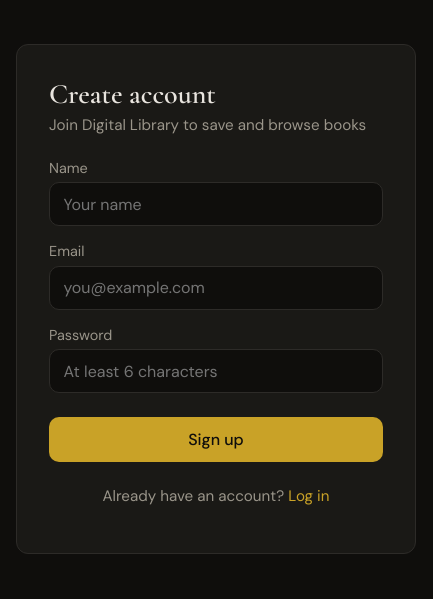
Scenario: Signup › shows error when API returns error
Type "Jane" into the field with placeholder "Your name". click: (216, 204)
box: [49,182,383,226]
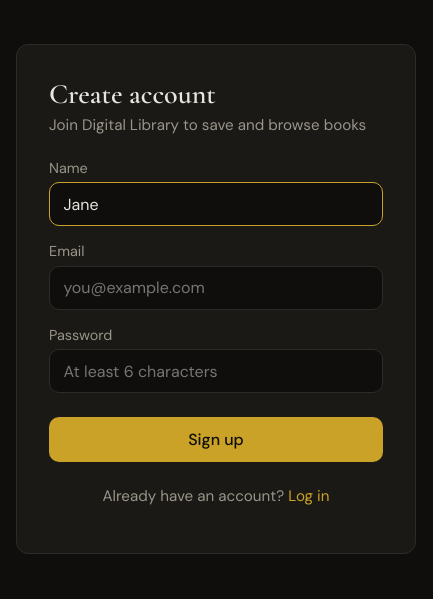
Type "j@b.com" into the field with placeholder "you@example.com". click: (216, 288)
box: [49,266,383,310]
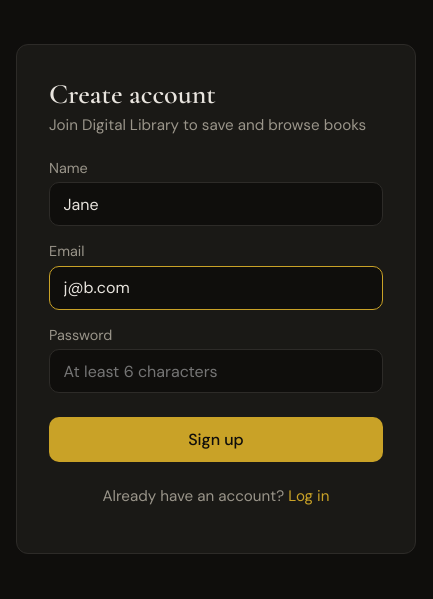
Type "password123" into the password field with placeholder "At least 6 characters". click: (216, 371)
box: [49,349,383,393]
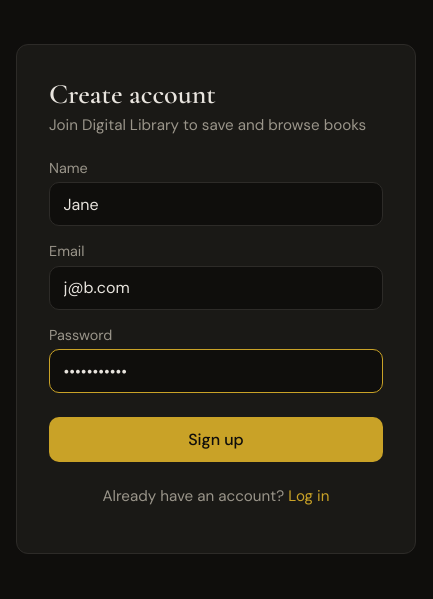
Click the button "Sign up". click: (216, 440)
box: [49,417,383,462]
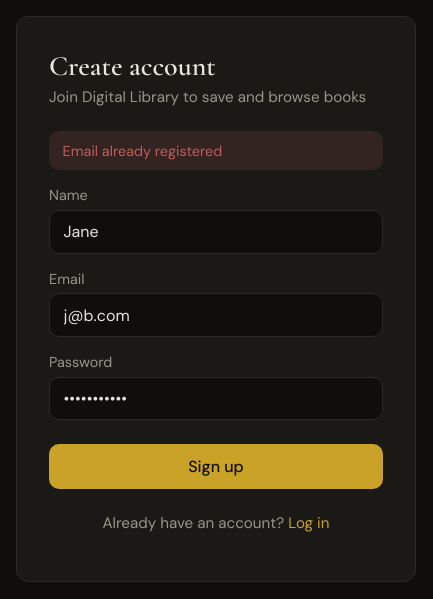
Expected: the text "Email already registered" is shown, [49,132,383,170]
